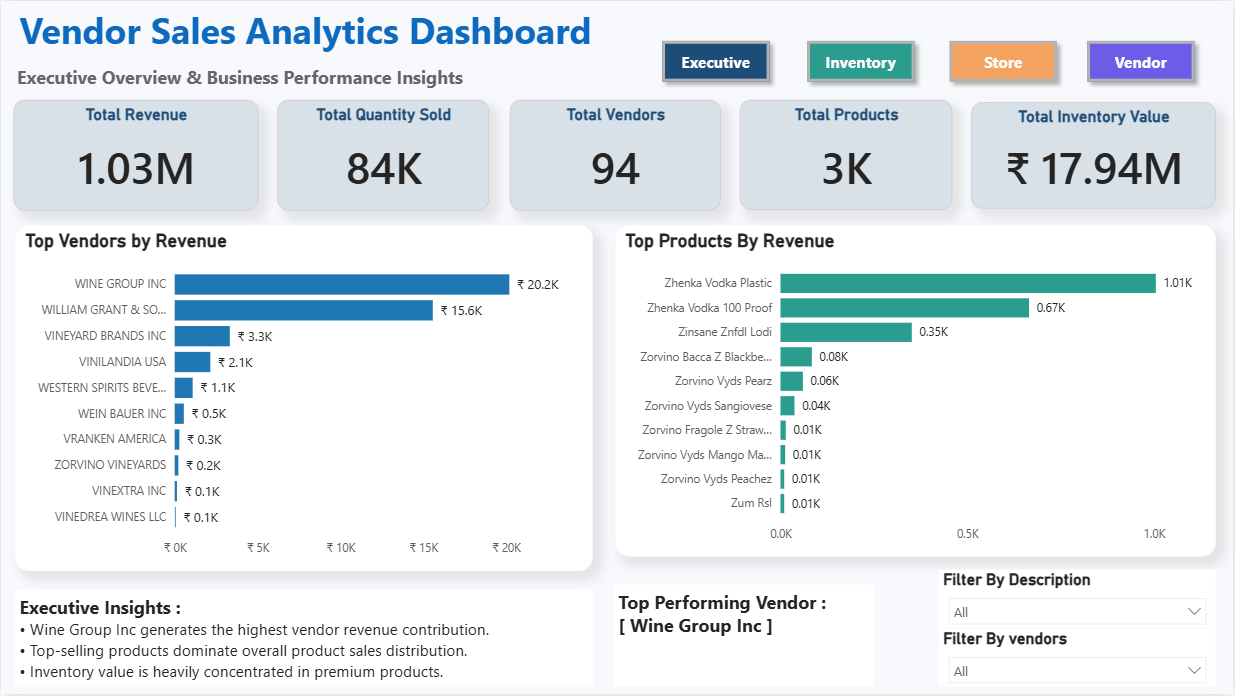

The page's visual inventory and layout, read from the dashboard file:
{"tool":"powerbi","page":{"name":"Executive Overview","canvas":[1280,720],"ordinal":0},"visuals":[{"type":"cardVisual","title":"Total Revenue","fields":{"Data":["Sum(vendor_summary.Total_Revenue)"]},"box":[13.3,102.8,254,114.9],"z":0},{"type":"cardVisual","title":"Total Quantity Sold","fields":{"Data":["Sum(vendor_summary.Total_Quantity_Sold)"]},"box":[287.2,102.8,220.1,114.9],"z":1000},{"type":"cardVisual","title":"Total Vendors","fields":{"Data":["Count(vendor_summary.VendorName)"]},"box":[528.1,102.8,218.9,114.9],"z":2000},{"type":"cardVisual","title":"Total Products","fields":{"Data":["Count(product_summary.Description)"]},"box":[767.1,103.1,220.8,114.6],"z":3000},{"type":"cardVisual","title":"Total Inventory Value","fields":{"Data":["Sum(inventory_summary.Remaining_Inventory_Value)"]},"box":[1007.4,105.3,254,110.1],"z":4000},{"type":"clusteredBarChart","title":"Top Vendors by Revenue","fields":{"Category":["vendor_summary.VendorName"],"Y":["Sum(vendor_summary.Total_Revenue)"]},"box":[13.9,232,600.9,360.2],"z":5000},{"type":"clusteredBarChart","title":"Top Products By Revenue","fields":{"Category":["product_summary.Description"],"Y":["Sum(product_summary.Total_Product_Revenue)"]},"box":[637.2,232,625,345],"z":6000},{"type":"textbox","box":[14.5,0,622.5,60.3],"z":7000},{"type":"textbox","box":[13.9,611.3,600.9,100.4],"z":8000},{"type":"textbox","box":[12.1,60.6,493.5,41.6],"z":9000},{"type":"actionButton","box":[678.2,32.1,129.5,60.3],"z":10000},{"type":"actionButton","box":[828.2,32.1,129.5,60.3],"z":11000},{"type":"actionButton","box":[1119.2,32.1,129.5,60.3],"z":12000},{"type":"actionButton","box":[976.9,32.1,129.5,60.3],"z":13000},{"type":"slicer","title":"Filter By Description","fields":{"Values":["product_summary.Description"]},"box":[973.6,591.2,288.3,60.3],"z":14000},{"type":"slicer","title":"Filter By vendors","fields":{"Values":["vendor_summary.VendorName"]},"box":[973.6,651.5,288.3,60.3],"z":15000},{"type":"textbox","box":[637,606.8,270.2,105],"z":16000}]}

Visuals, with their boxes in screenshot pixels (x1, y1, x2, y2), scaled from the page's 1280x720 canvas onto the 1235x696 screenshot:
"Total Revenue" cardVisual: bbox=[13, 99, 258, 210]
"Total Quantity Sold" cardVisual: bbox=[277, 99, 489, 210]
"Total Vendors" cardVisual: bbox=[510, 99, 721, 210]
"Total Products" cardVisual: bbox=[740, 100, 953, 210]
"Total Inventory Value" cardVisual: bbox=[972, 102, 1217, 208]
"Top Vendors by Revenue" clusteredBarChart: bbox=[13, 224, 593, 572]
"Top Products By Revenue" clusteredBarChart: bbox=[615, 224, 1218, 558]
textbox: bbox=[14, 0, 615, 58]
textbox: bbox=[13, 591, 593, 688]
textbox: bbox=[12, 59, 488, 99]
actionButton: bbox=[654, 31, 779, 89]
actionButton: bbox=[799, 31, 924, 89]
actionButton: bbox=[1080, 31, 1205, 89]
actionButton: bbox=[943, 31, 1068, 89]
"Filter By Description" slicer: bbox=[939, 571, 1218, 630]
"Filter By vendors" slicer: bbox=[939, 630, 1218, 688]
textbox: bbox=[615, 587, 875, 688]
